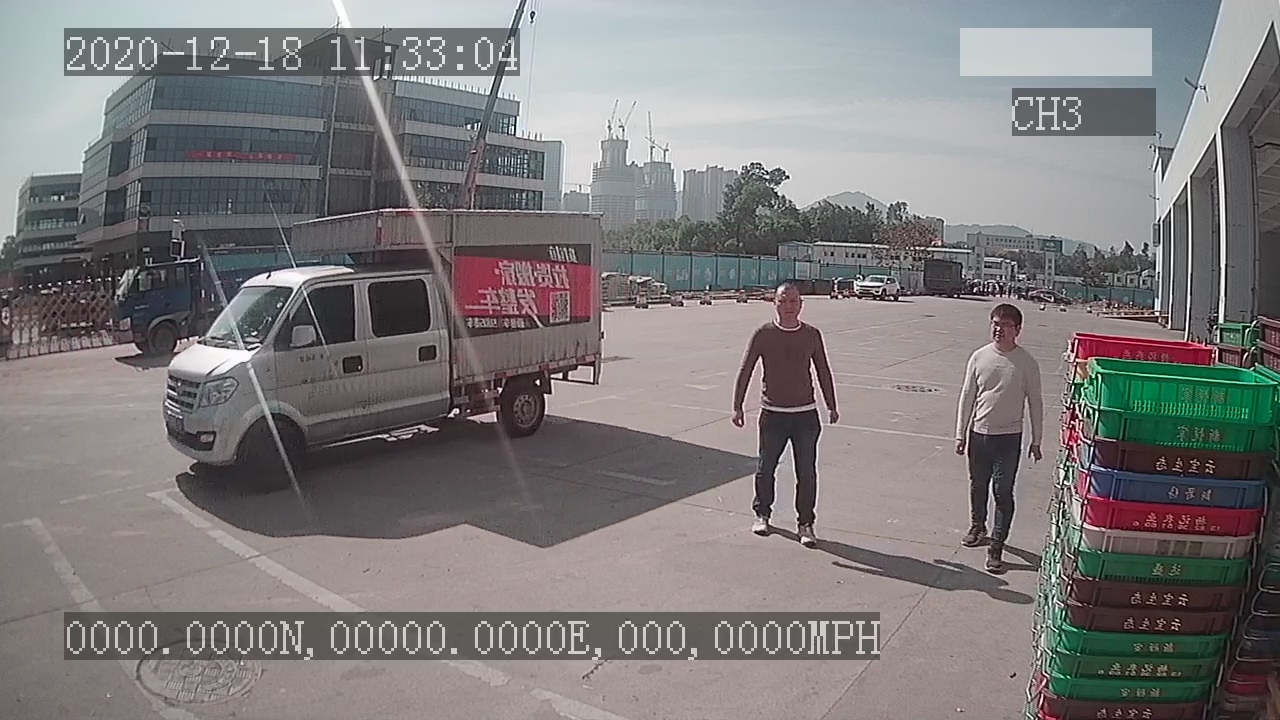person: (952, 304, 1044, 573)
